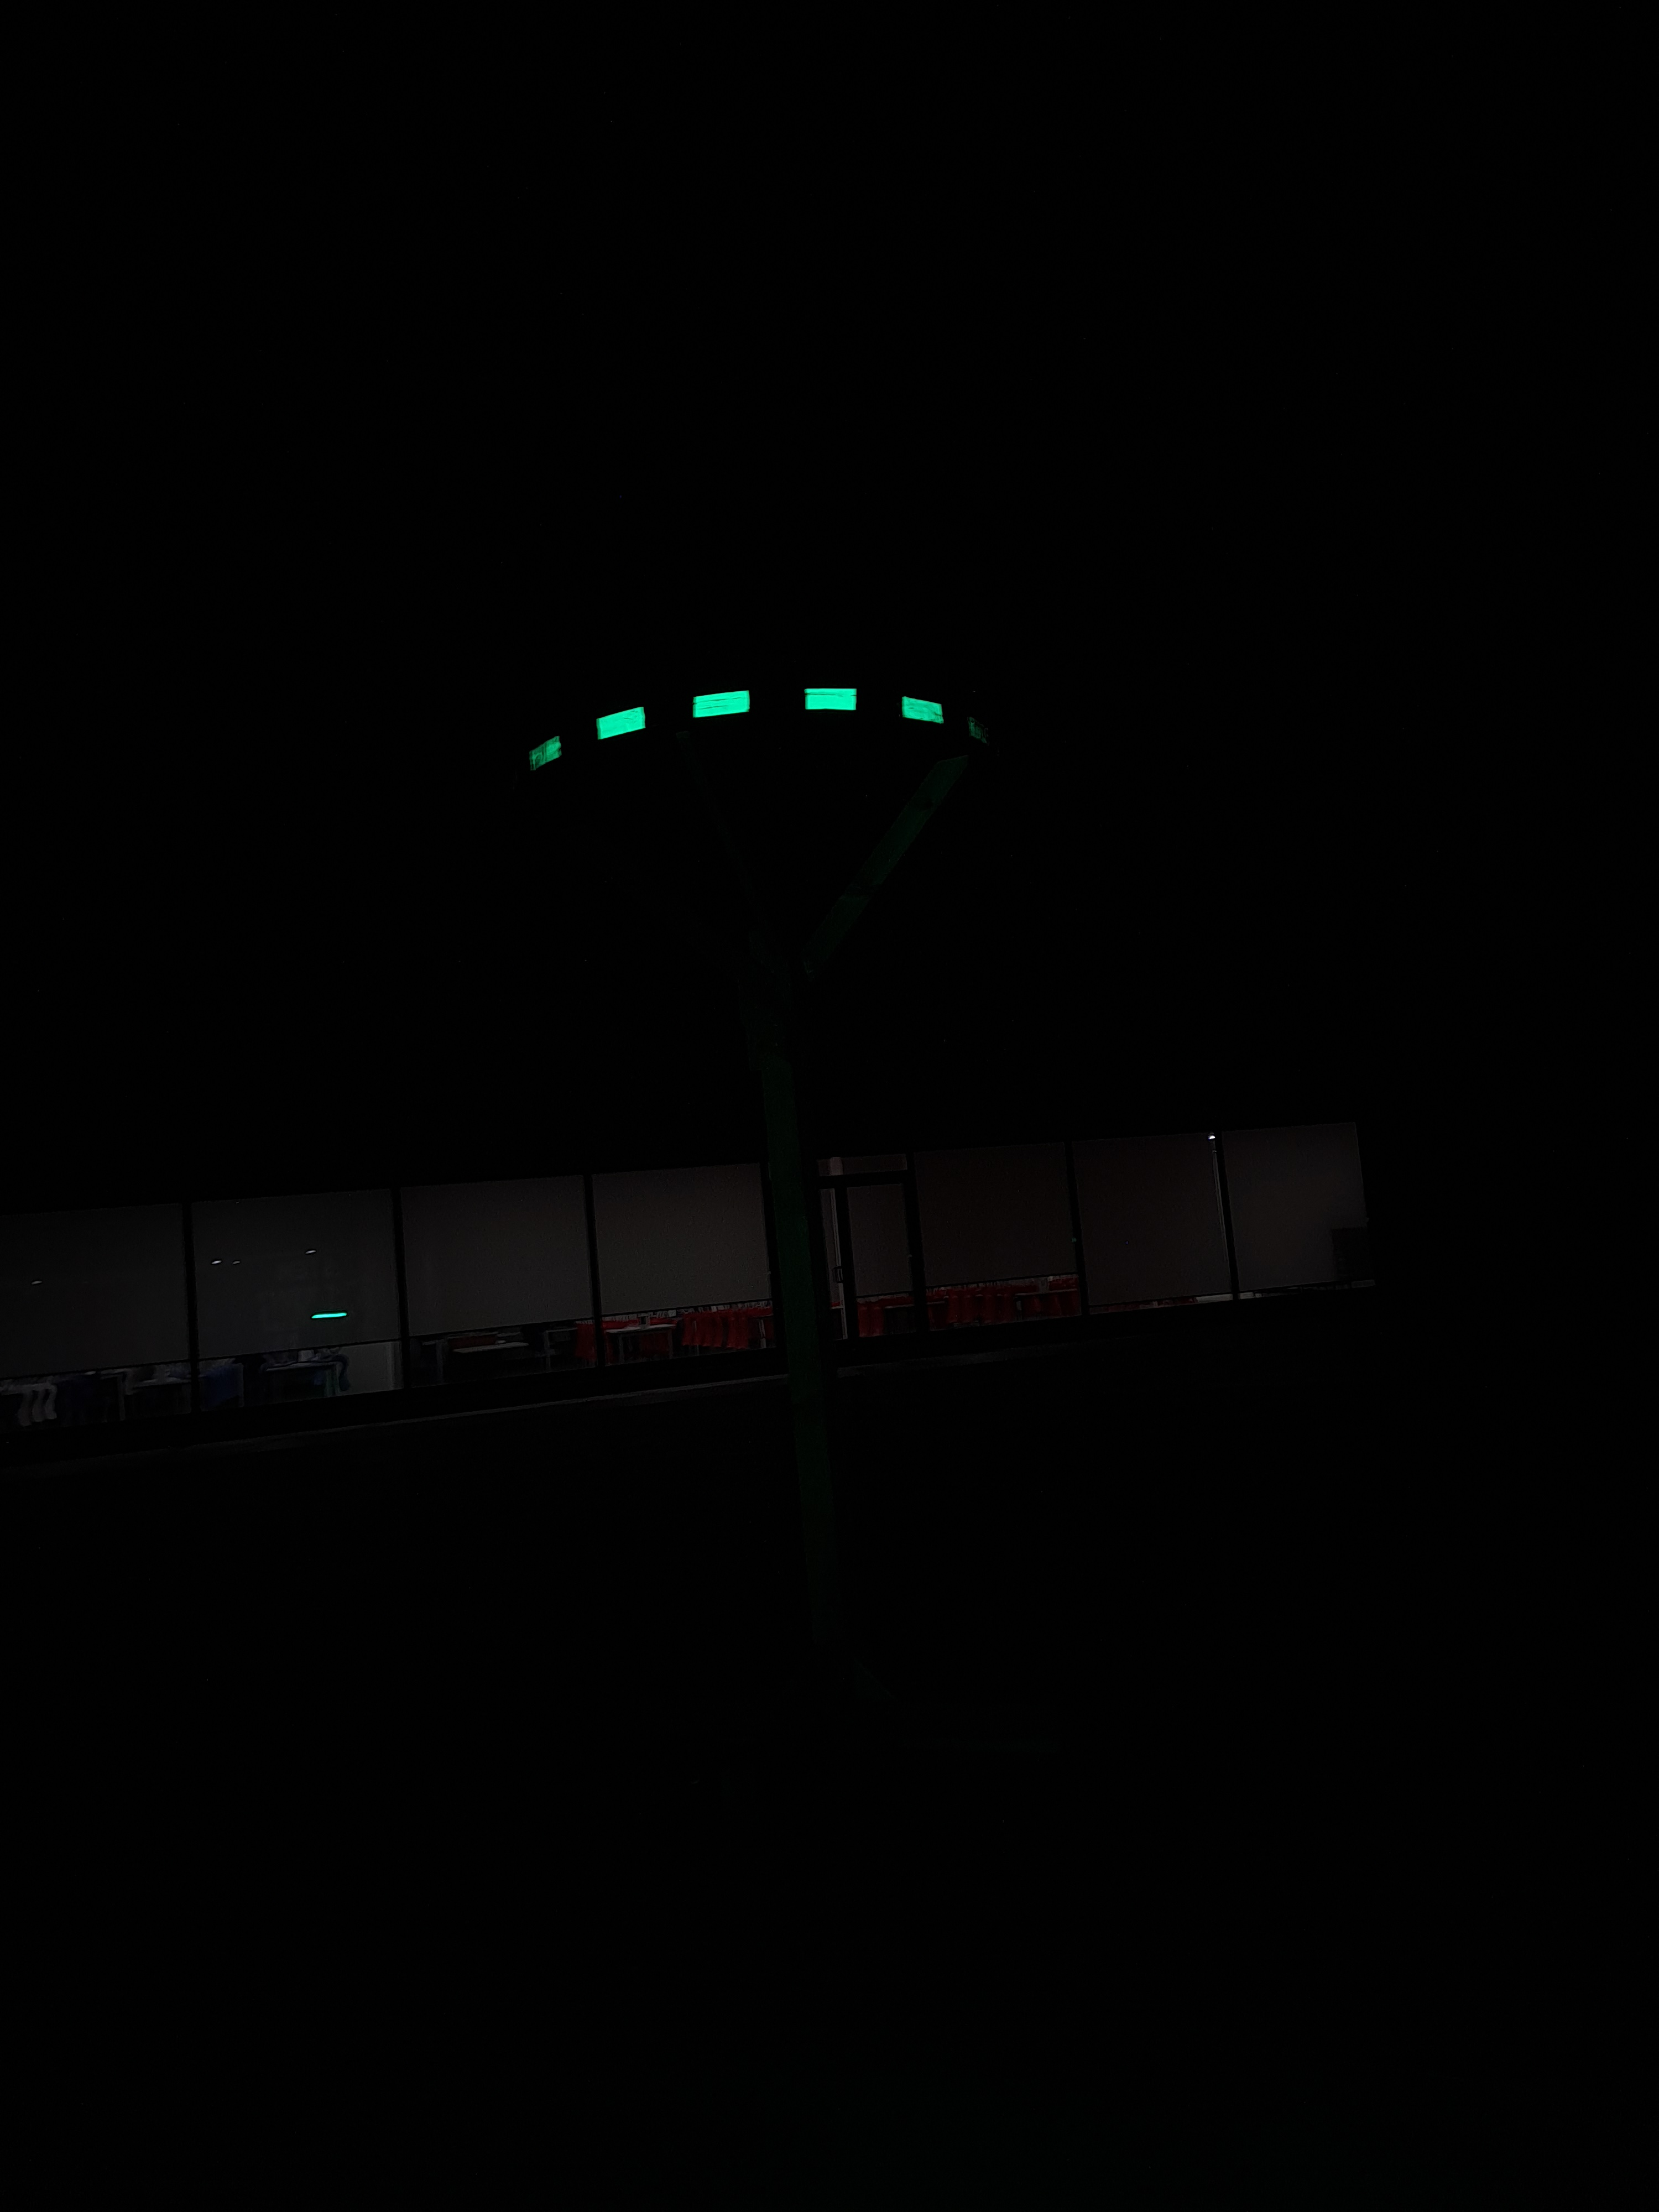hoop: (525, 685, 950, 779)
